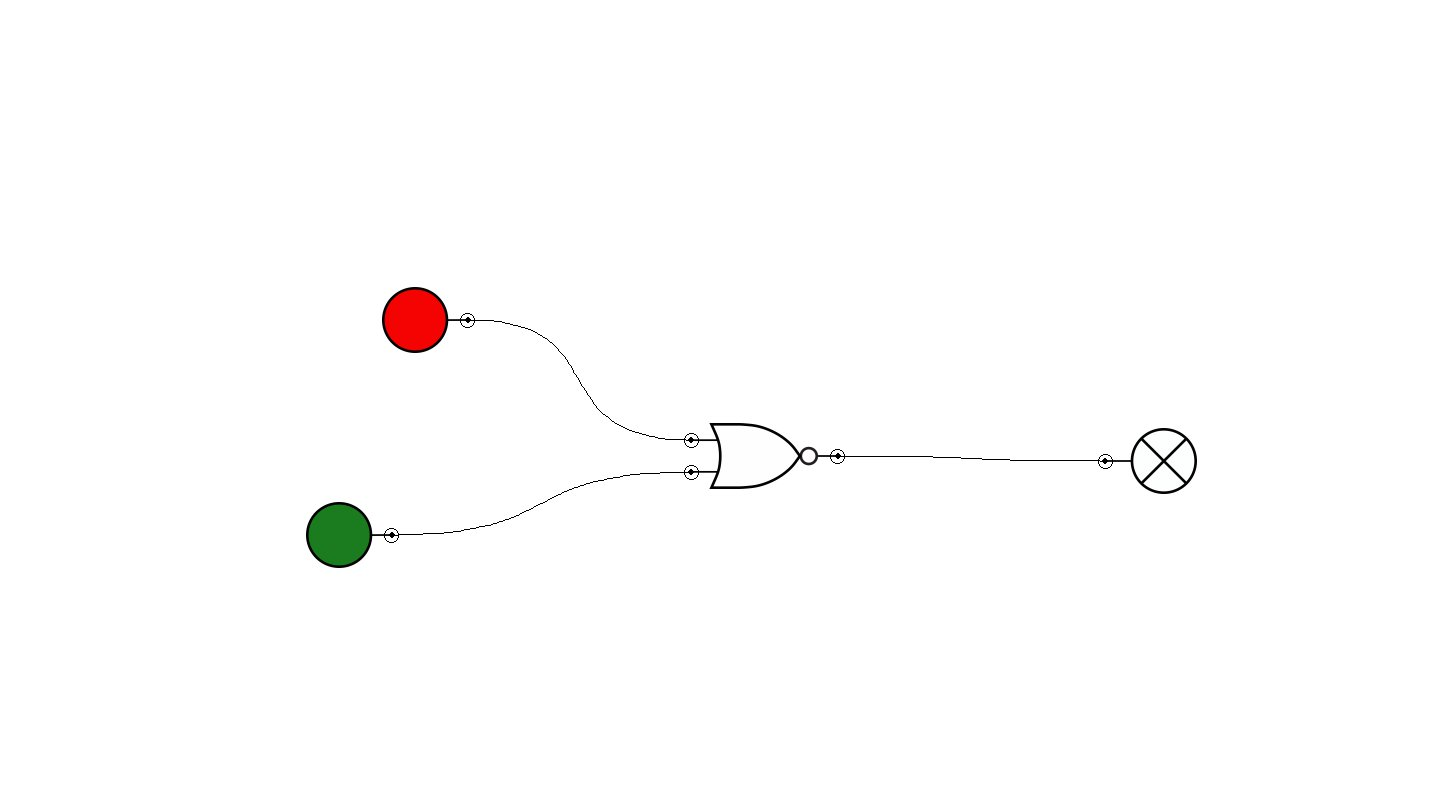bulb: (1098, 428, 1197, 494)
nor: (684, 423, 845, 489)
switch_False: (382, 287, 475, 353)
switch_True: (306, 502, 399, 568)
